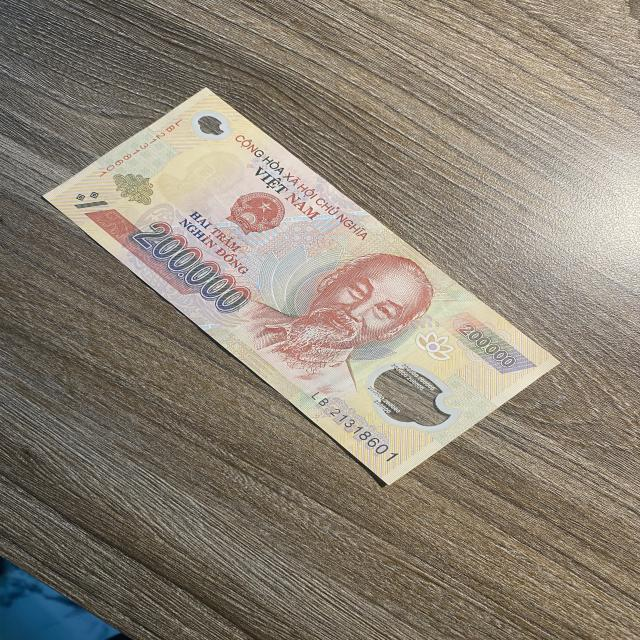200 000 VND: (42, 87, 562, 487)
